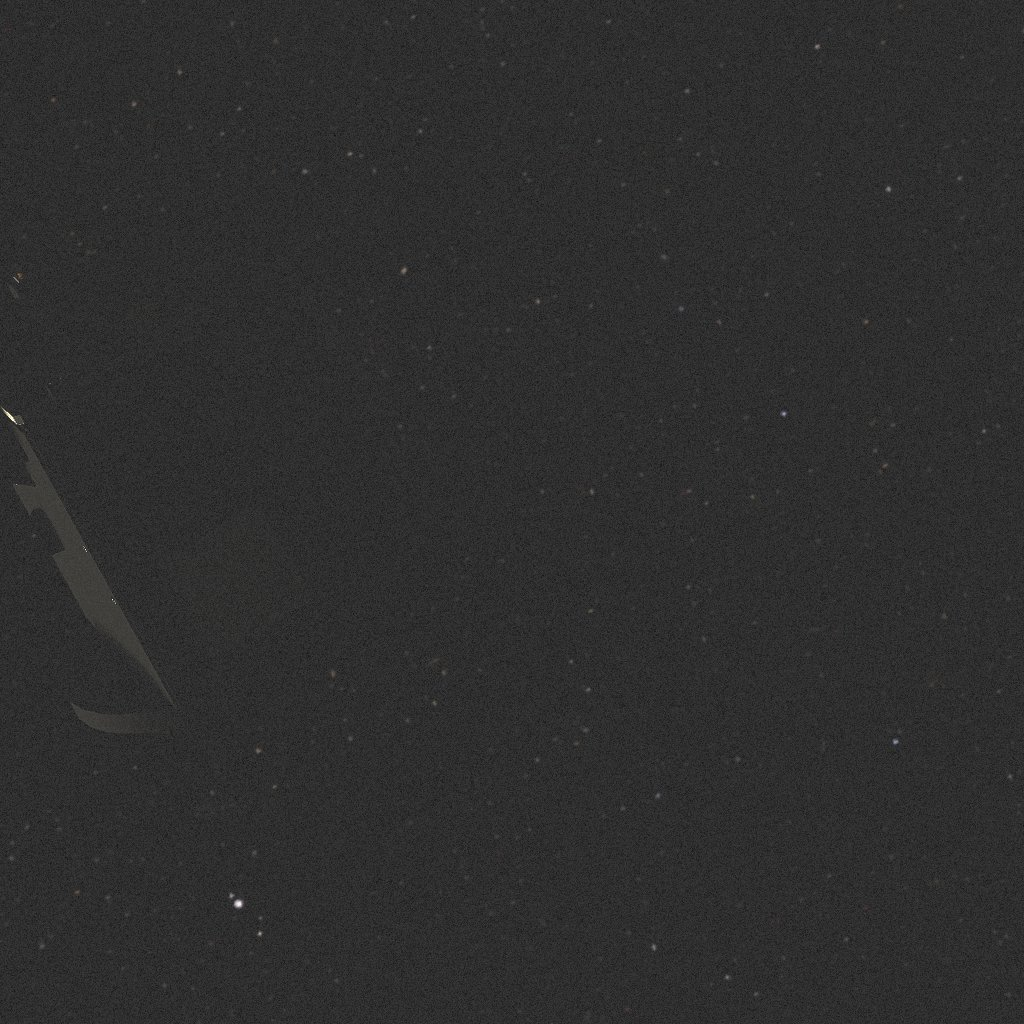proba_3_ocs: (0, 180, 492, 733)
